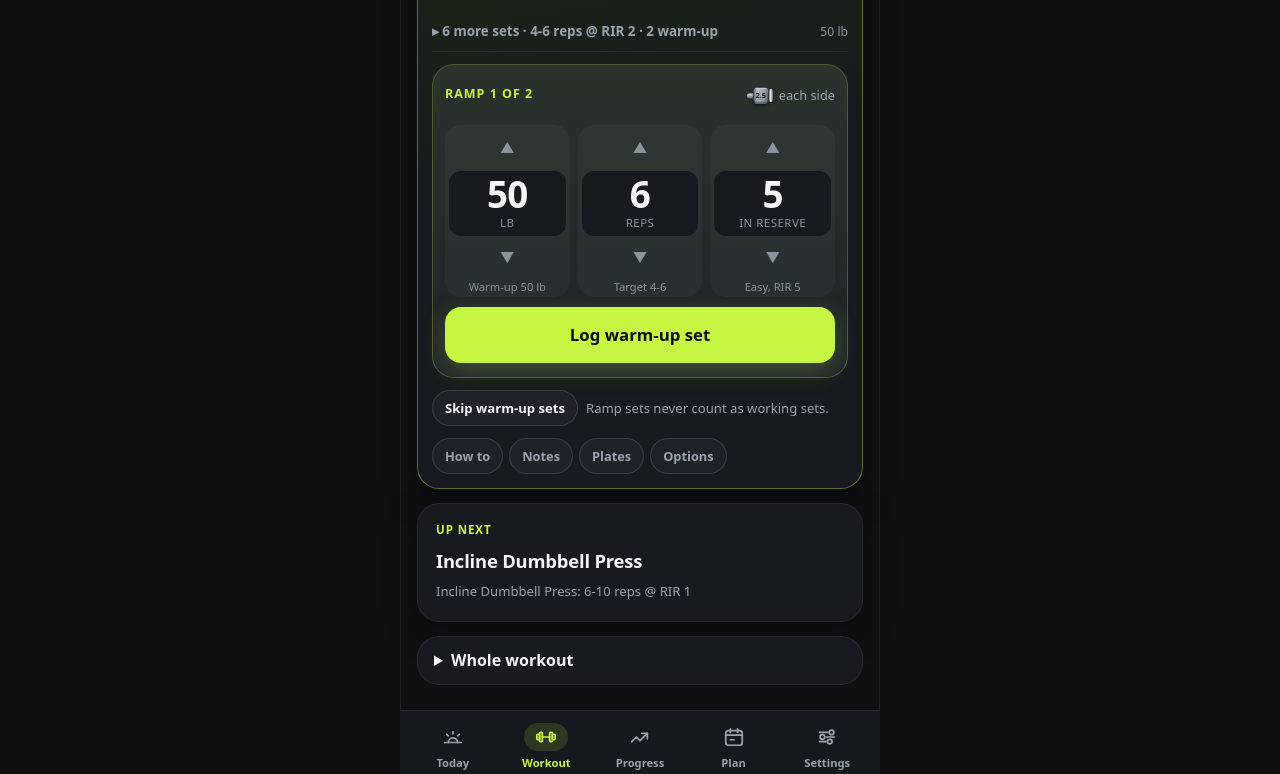
Test: How to on the Workout tab › shows why the target is what it is in Options, beside the session’s actions
This screenshot has width=1280, height=774.
(page scrolled)
Click the button with test id "options-tab" at (688,456), box left=650, top=438, right=727, bottom=474
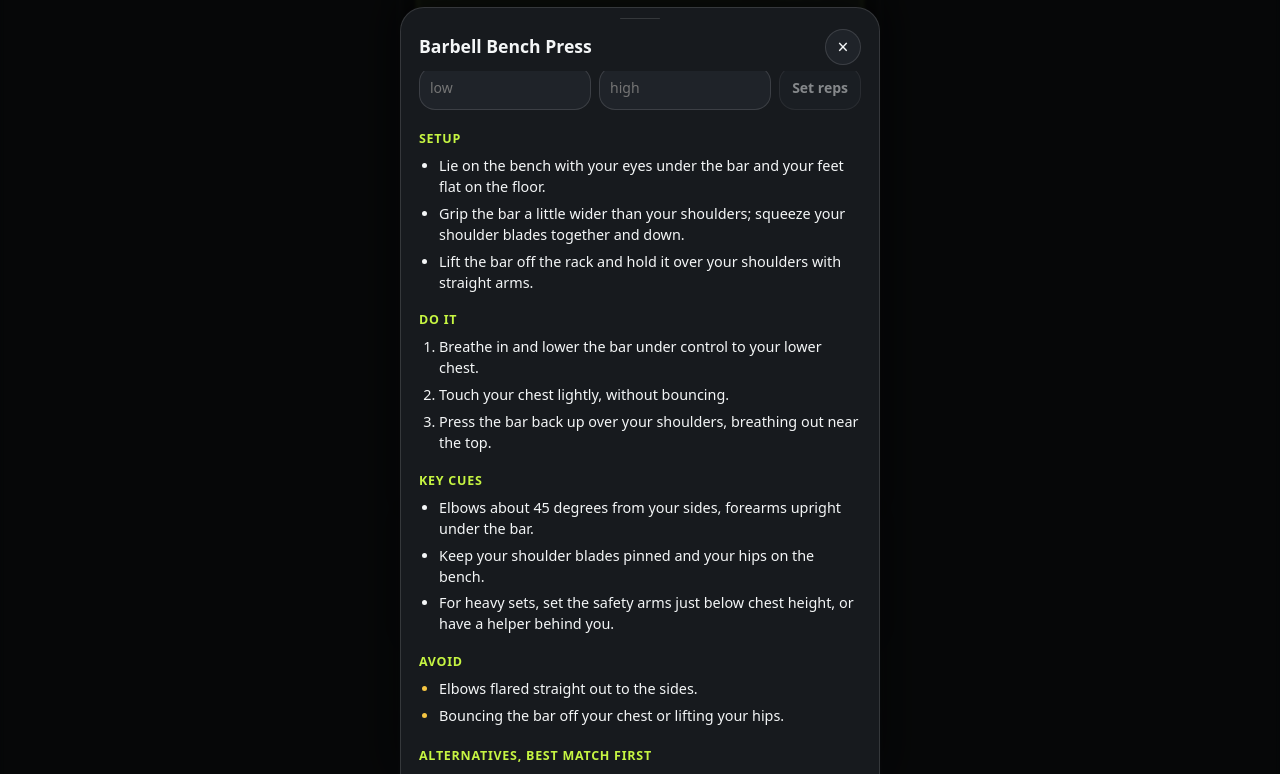
Check: the element with test id "how-to-text" is shown, box left=419, top=126, right=861, bottom=727
